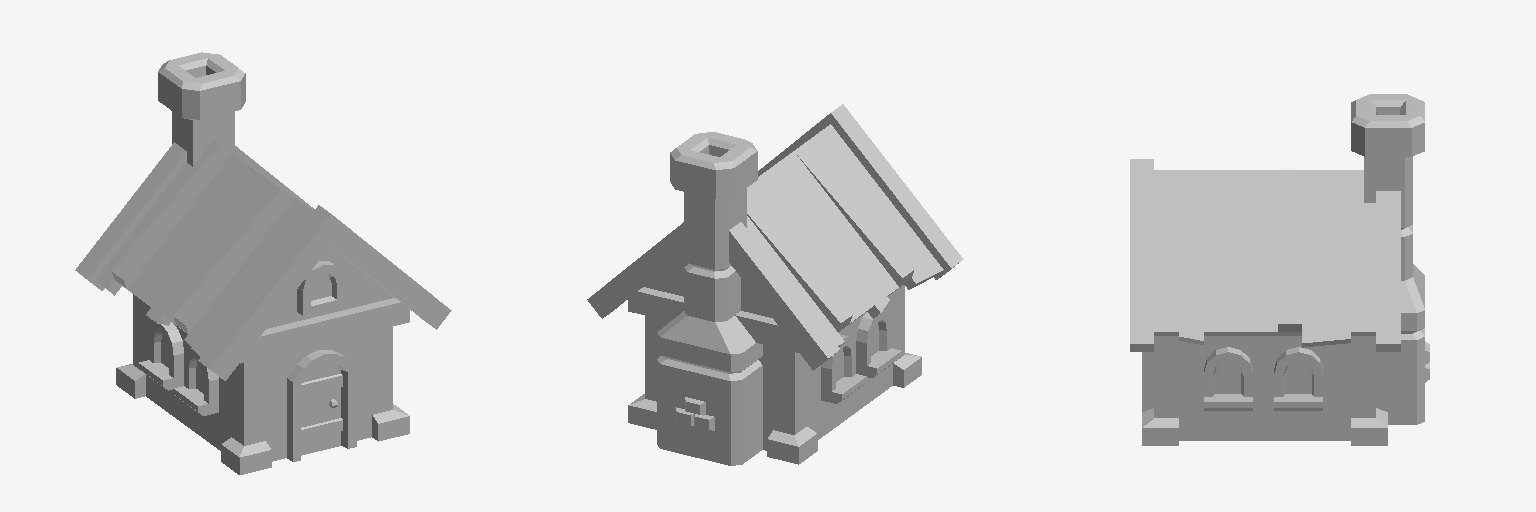
File: building_home_A_red.obj
3 views of the same model, side by side, from view 1: azimuth 30°, elevation 25°; view 2: azimuth 150°, elevation 25°; view 3: azimuth 270°, elevation 25° (orthographic).
Parts seen in each view (by area): view 1: building_home_A_red; view 2: building_home_A_red; view 3: building_home_A_red.
Part boxes in pixels (left/top/right/bottom): building_home_A_red: left=75, top=52, right=451, bottom=474; building_home_A_red: left=587, top=104, right=963, bottom=465; building_home_A_red: left=1130, top=94, right=1429, bottom=445.
Size of the model in its own units: 0.792 by 0.93 by 0.8537.